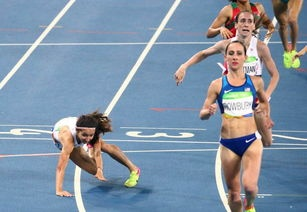falling: (46, 103, 142, 199)
